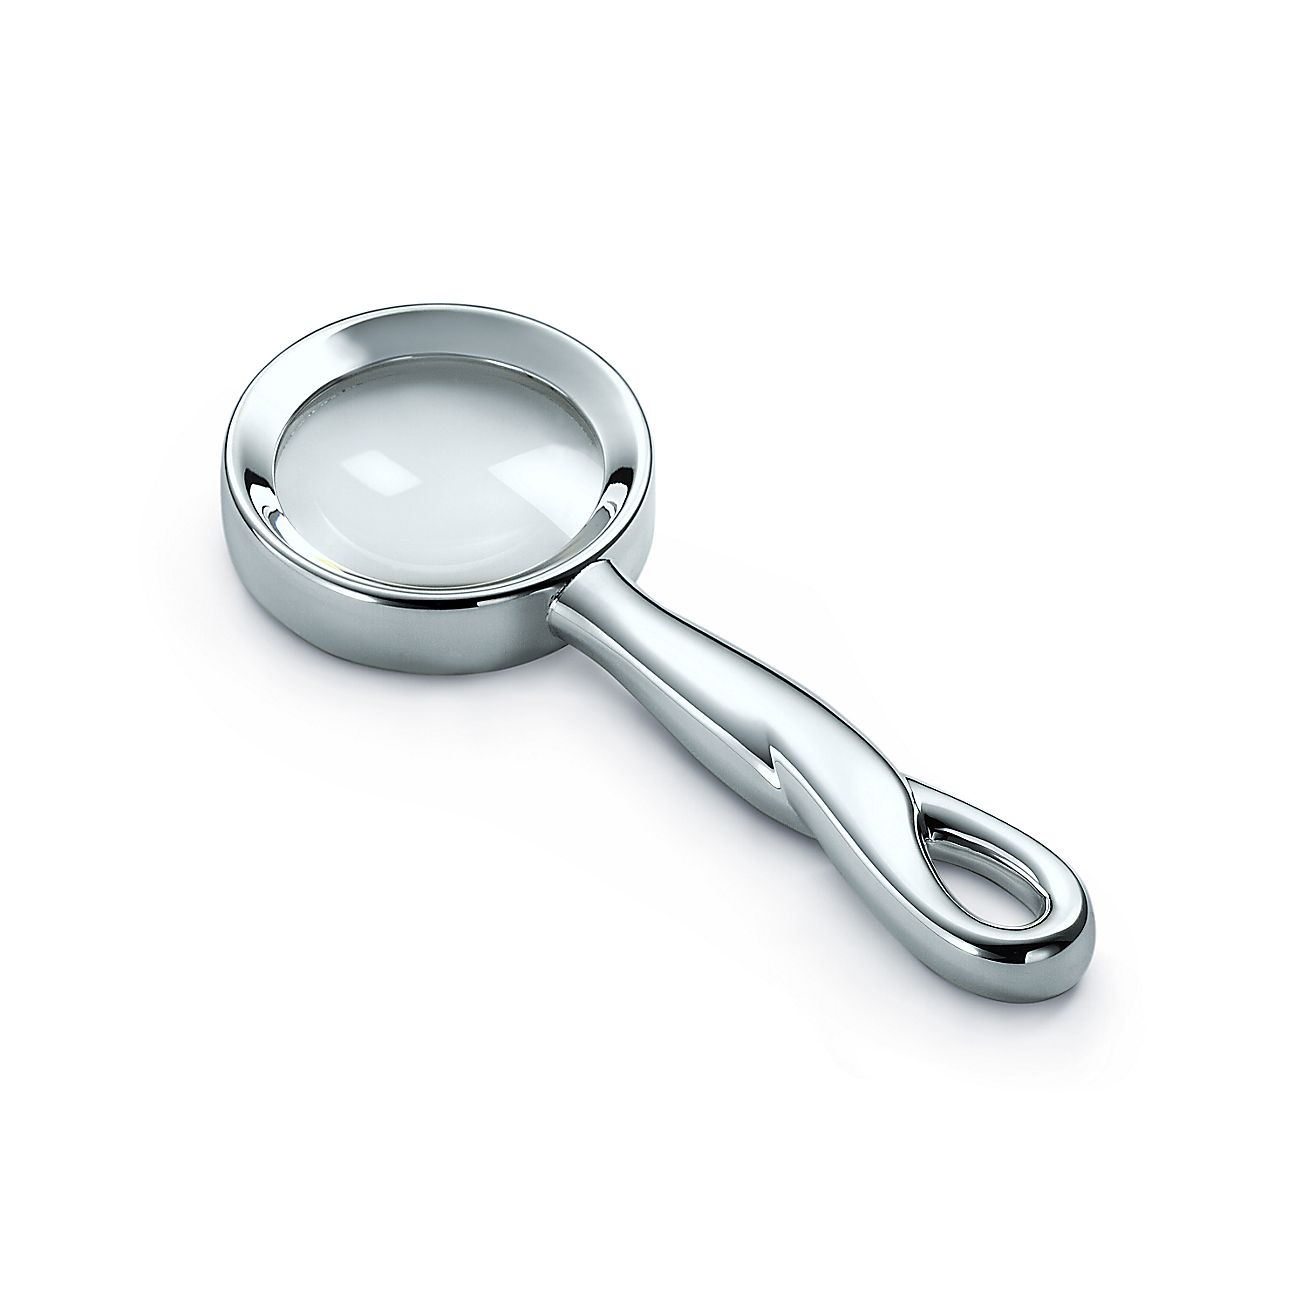magnifying-glass: (190, 248, 1149, 1073)
